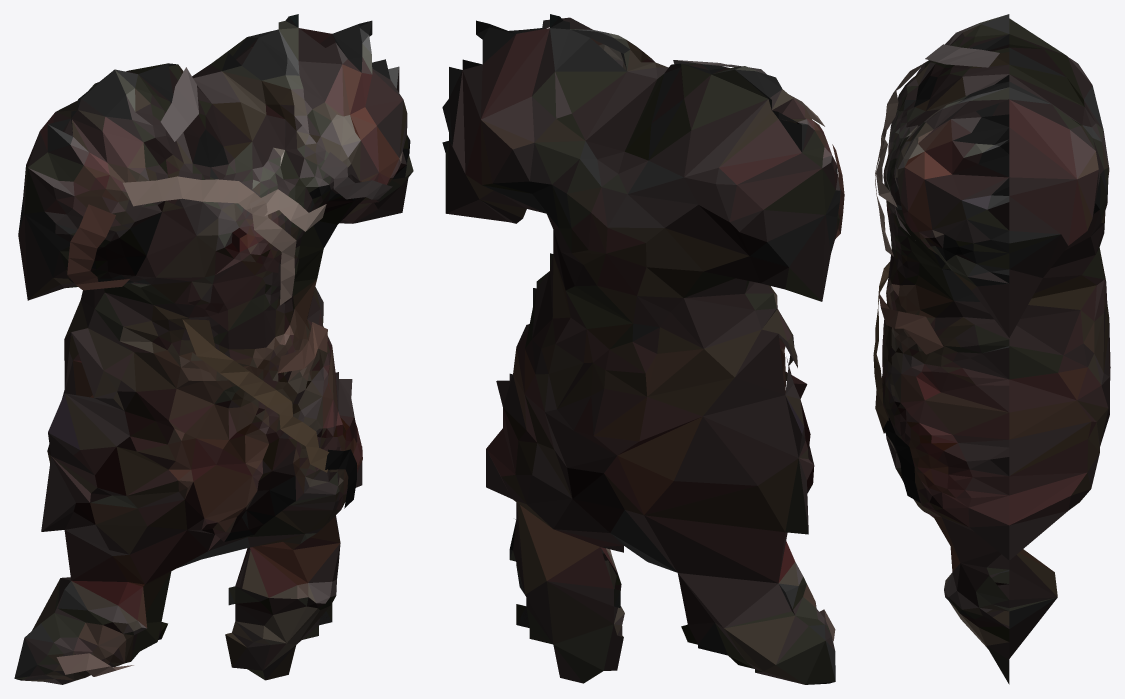
The picture shows the model from 3 angles, left to right: view 1: azimuth 30°, elevation 25°; view 2: azimuth 150°, elevation 25°; view 3: azimuth 270°, elevation 25°; orthographic projection. The views are drawn at different scales.
Visible parts, largest first — view 1: object 2, detail; view 2: object 2, detail; view 3: object 2, detail.
Part boxes in pixels (box(x1,y1,x2,y2)): object 2: box(14, 14, 413, 684); detail: box(56, 67, 392, 676); object 2: box(442, 14, 840, 684); detail: box(673, 60, 844, 641); object 2: box(881, 14, 1110, 684); detail: box(873, 44, 999, 502).
Size of the model in its own units: 117 by 188 by 67.
